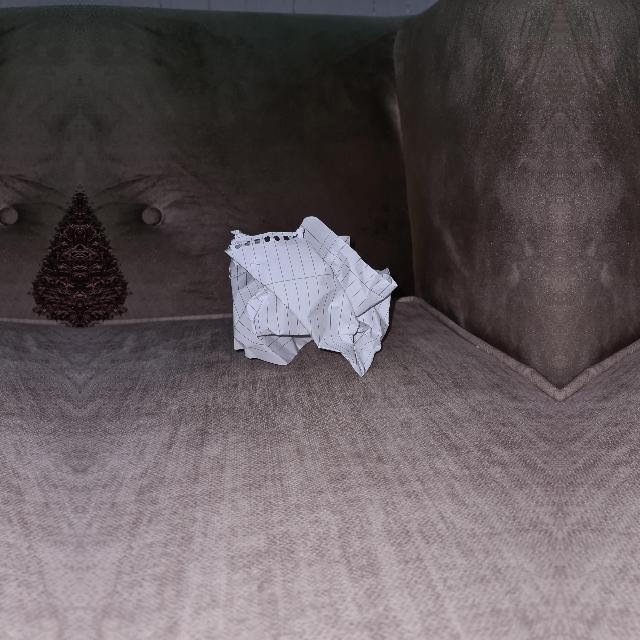paper: (225, 217, 403, 376)
